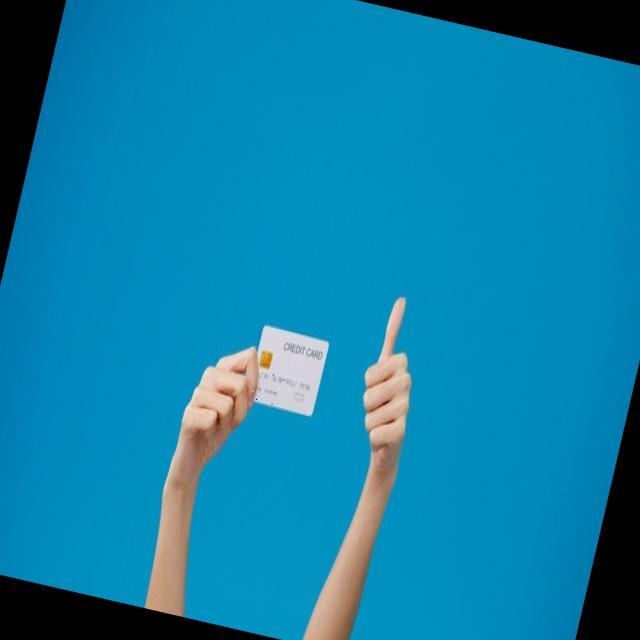payment_card: (251, 324, 329, 417)
